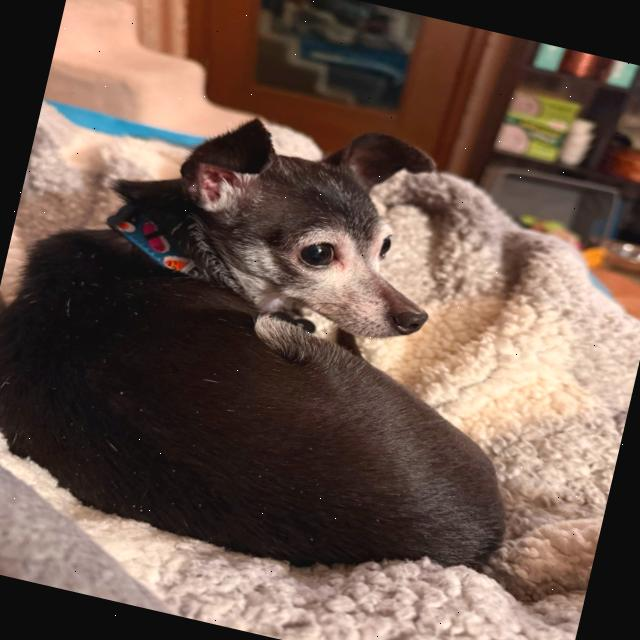chihuahua_dog: (123, 72, 480, 385)
